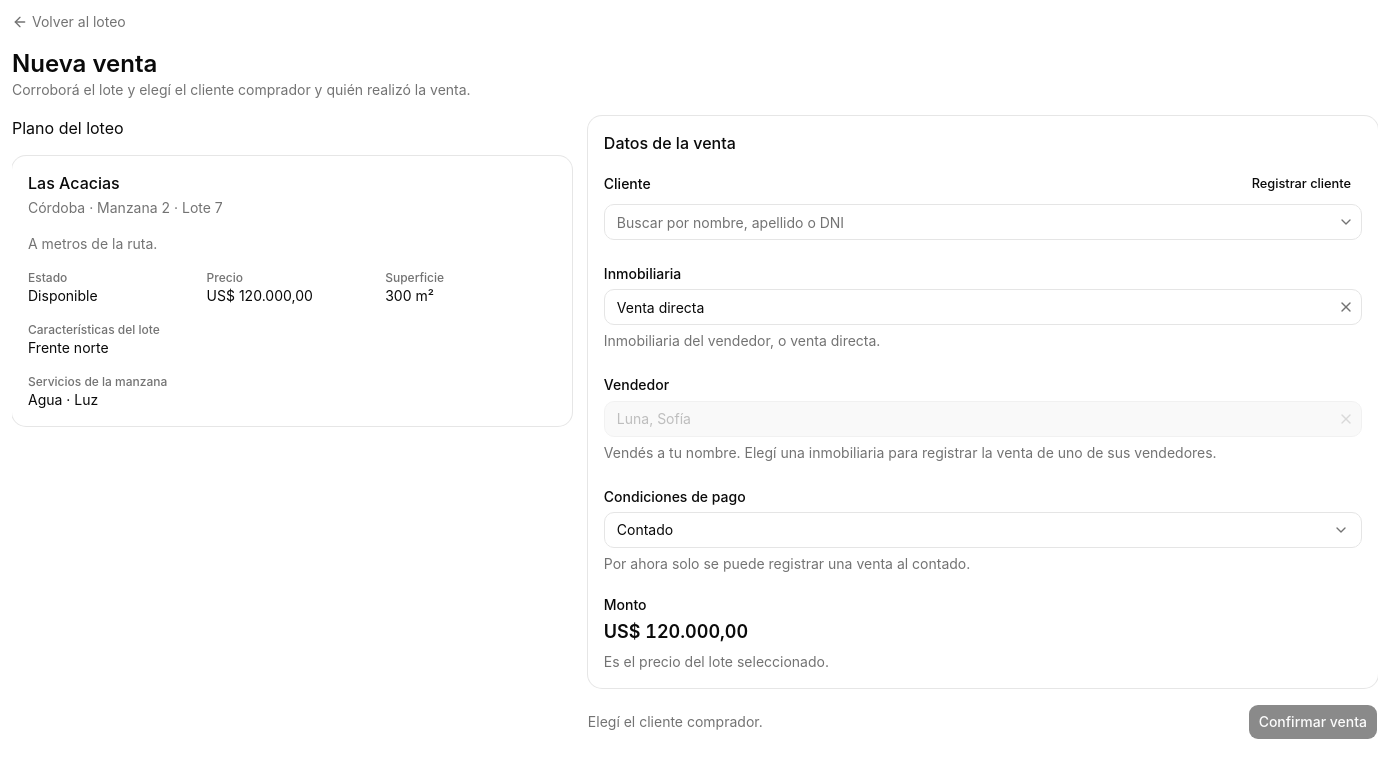
Test: SaleCreatePage › fixes the seller to the internal user on a venta directa and frees it for an agency
Expected: the dropdown labelled "Vendedor" holds "Luna, Sofía", [605, 400, 1334, 436]
Expected: the dropdown labelled "Vendedor" is disabled, [605, 400, 1334, 436]
Click the dropdown labelled "Inmobiliaria". click: (969, 307)
box: [605, 289, 1334, 325]
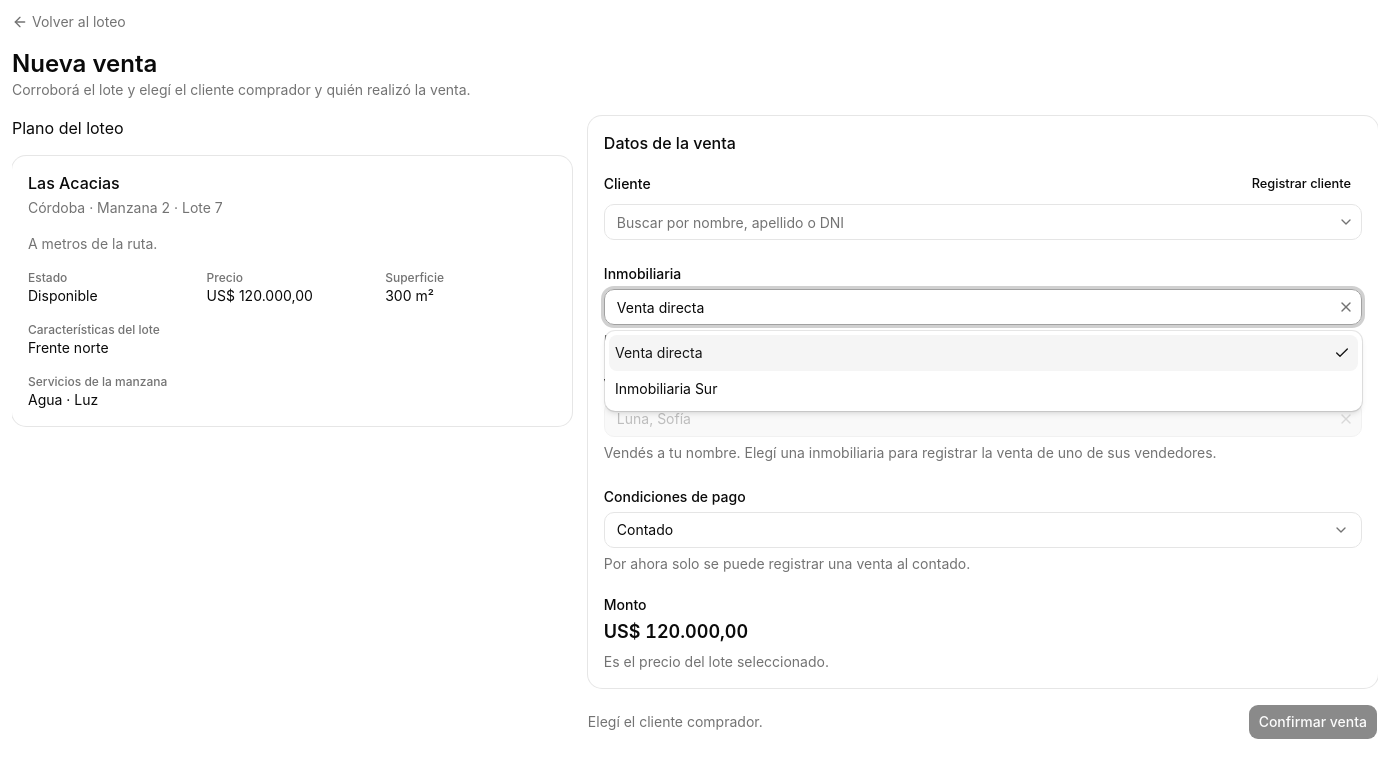
Click the option "Inmobiliaria Sur". click: (666, 388)
box: [615, 380, 717, 397]
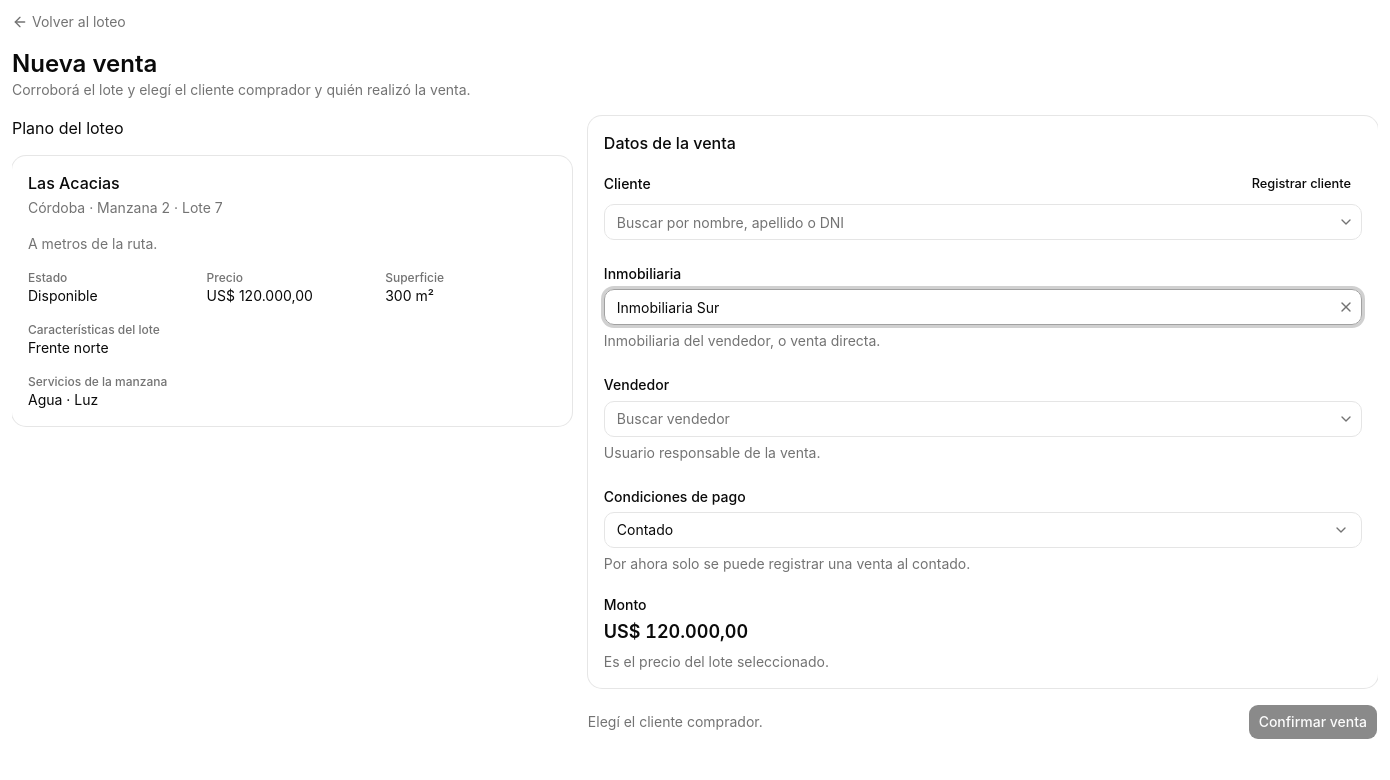
Now the dropdown labelled "Vendedor" is enabled
Now the dropdown labelled "Vendedor" is empty
Click the dropdown labelled "Vendedor". click: (969, 418)
box: [605, 400, 1334, 436]
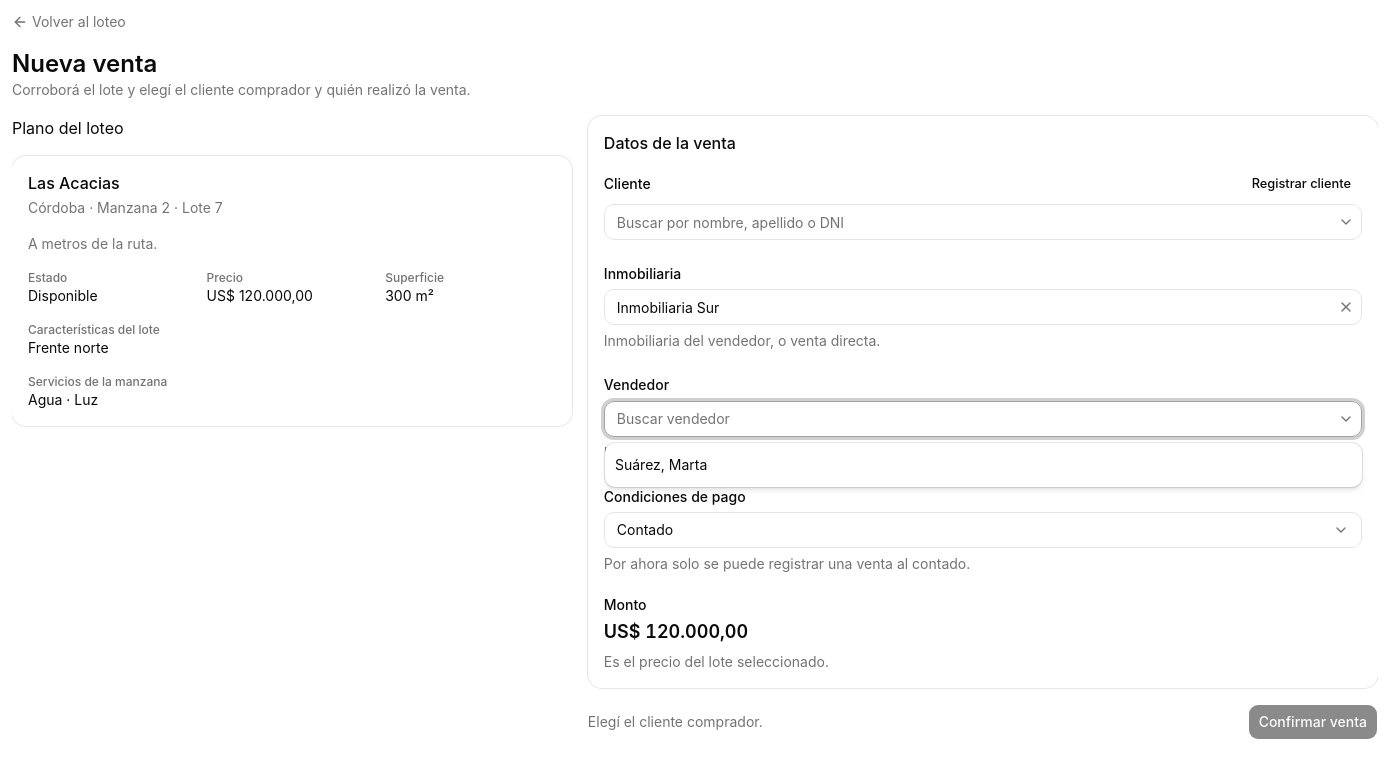
Click the option "Suárez, Marta". click: (661, 464)
box: [615, 456, 707, 473]
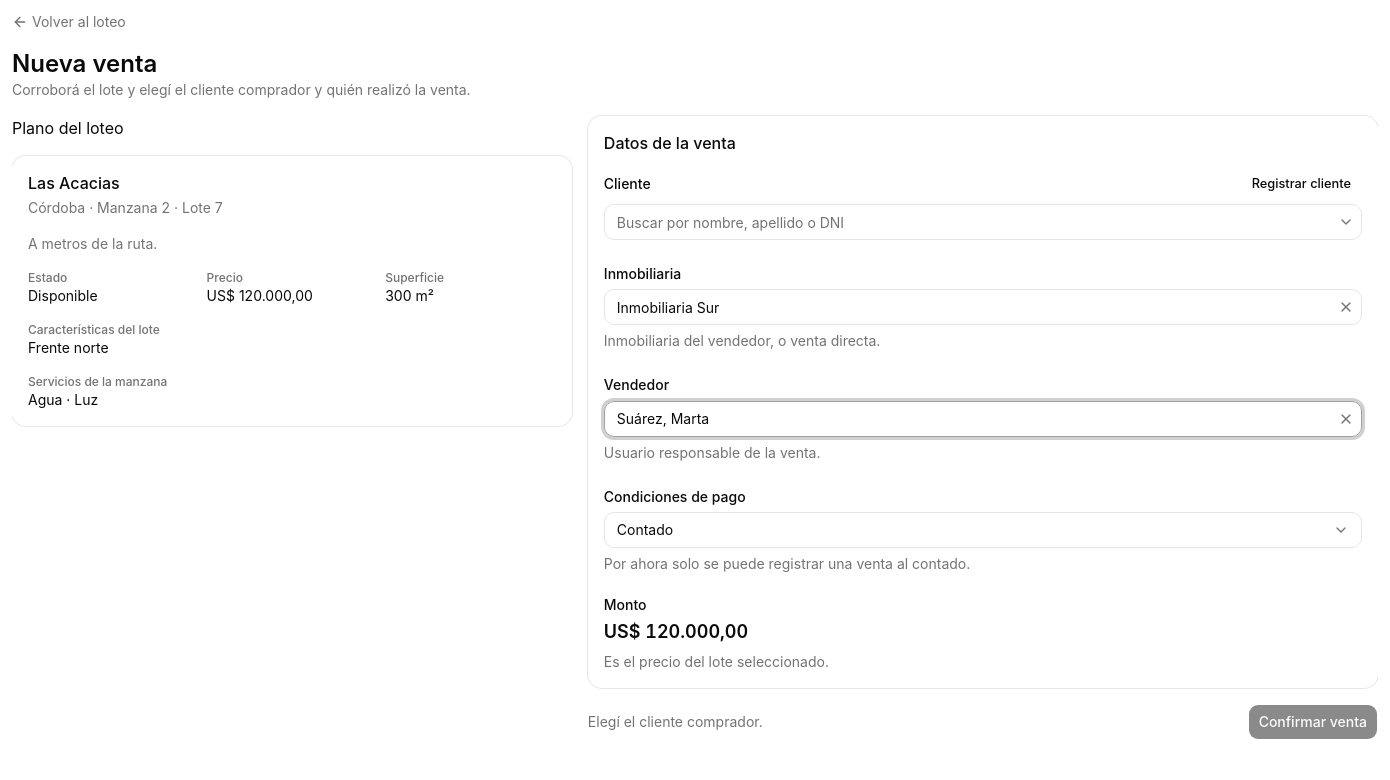
Now the dropdown labelled "Vendedor" holds "Suárez, Marta", box [605, 400, 1334, 436]
Click the dropdown labelled "Inmobiliaria". click: (969, 307)
box: [605, 289, 1334, 325]
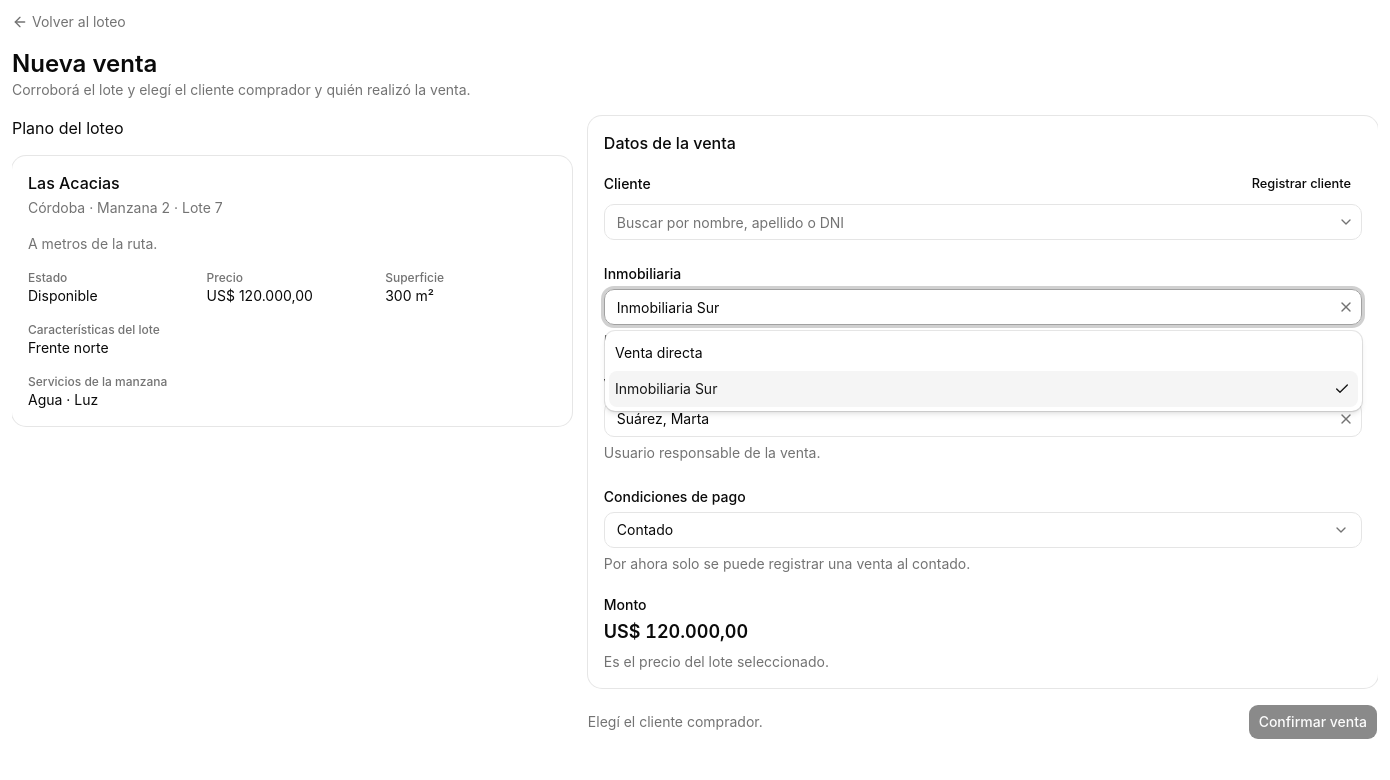
Click the option "Venta directa". click: (659, 352)
box: [615, 344, 702, 361]
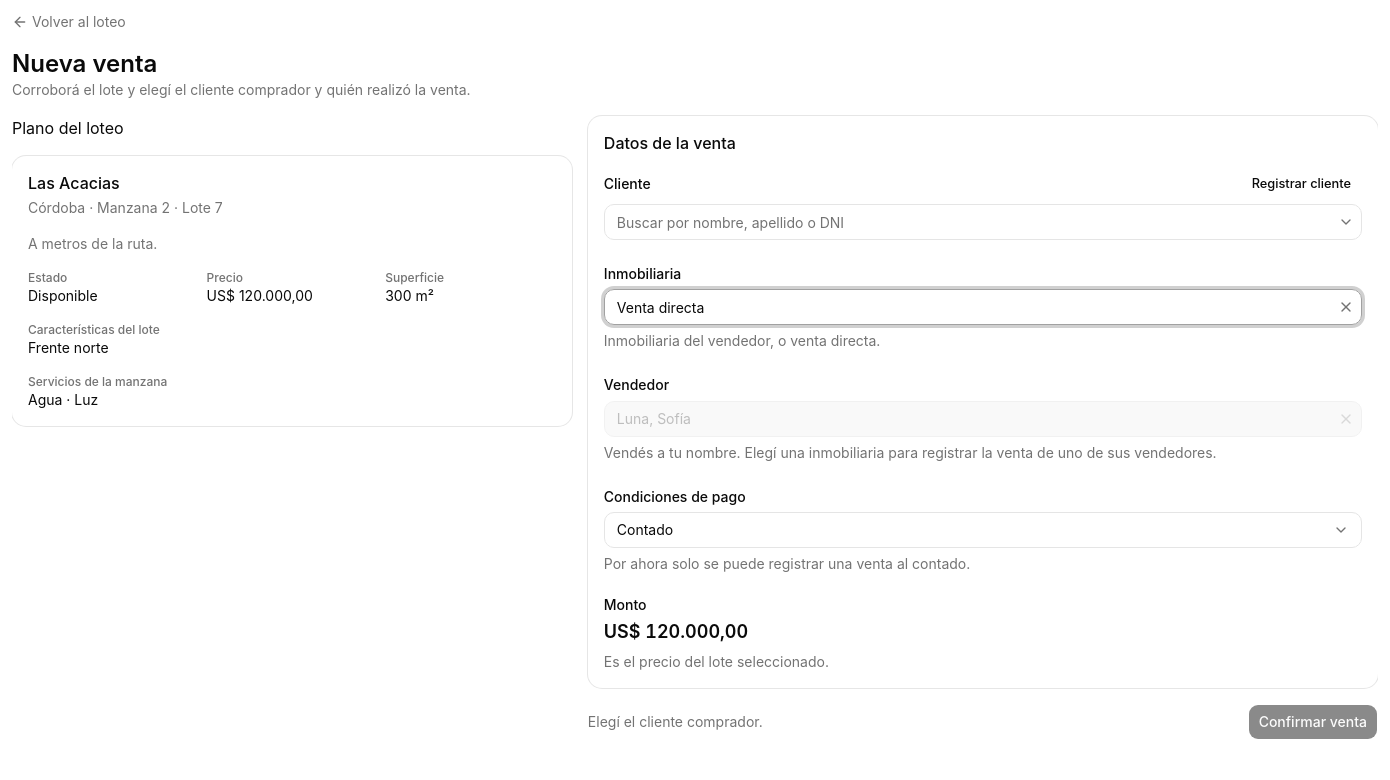
Now the dropdown labelled "Vendedor" holds "Luna, Sofía", box [605, 400, 1334, 436]
Now the dropdown labelled "Vendedor" is disabled, box [605, 400, 1334, 436]
